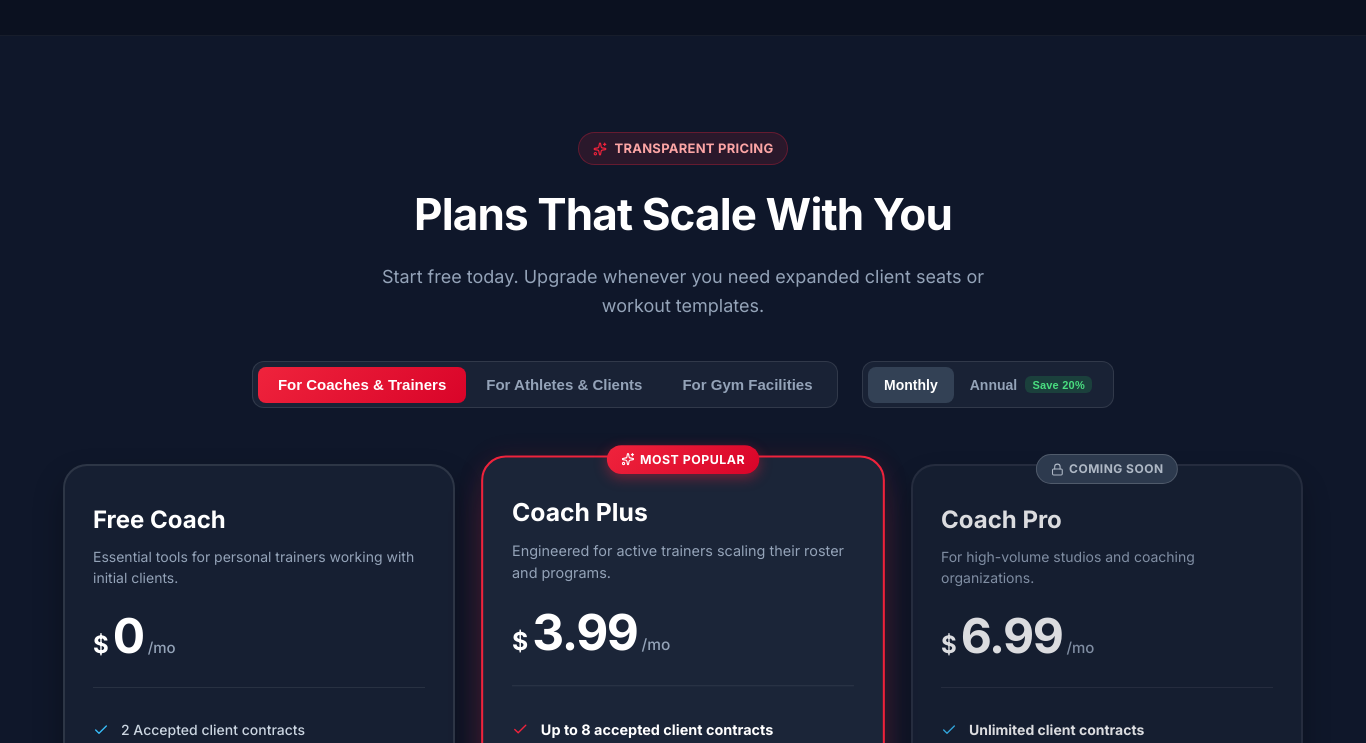
Test: LandingPage › switches billing frequency from monthly to annual and shows savings
The width and height of the screenshot is (1366, 743).
(page scrolled)
Expected: the text "3.99" is shown, [532,608,637,658]
# Click Annual
Click the button "Annual Save 20%": (1031, 385) [954,367,1108,403]
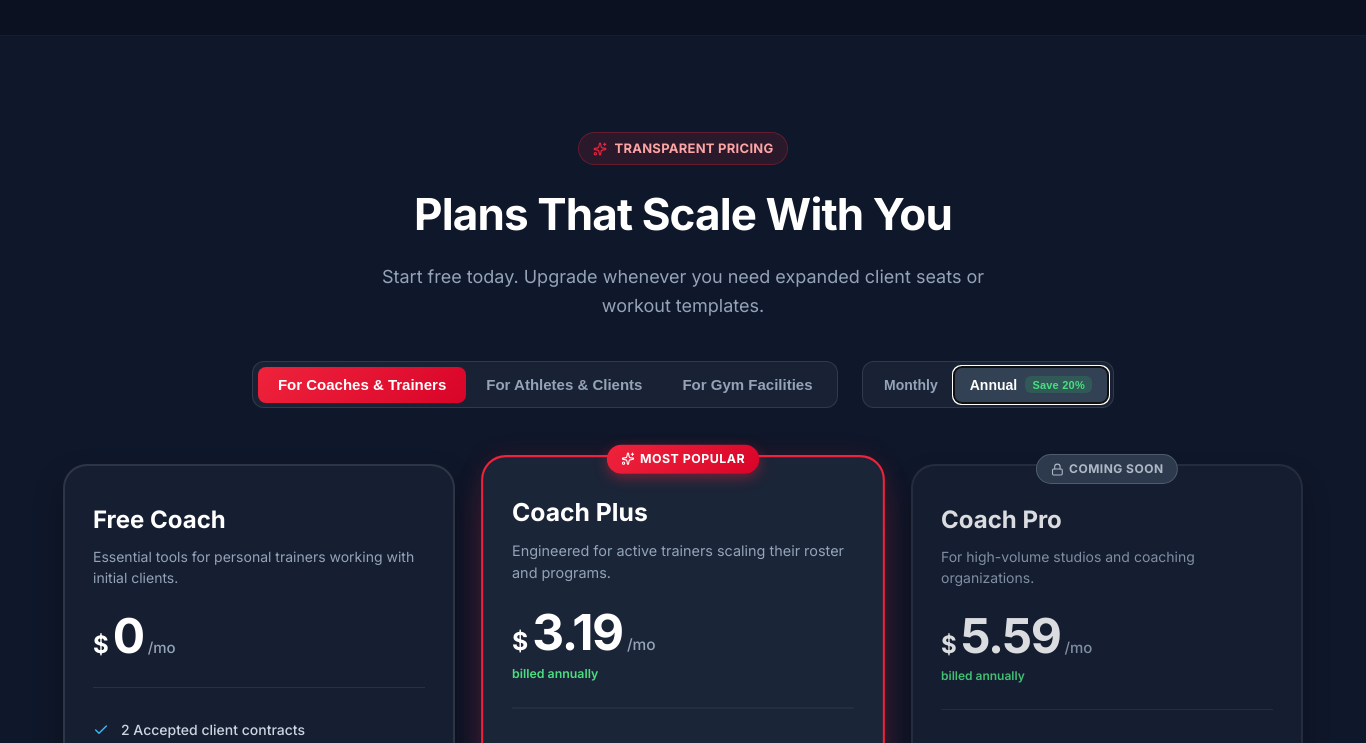
Result: the text "billed annually" below "3.19" is shown at [512,666,598,681]
Result: the text "3.19" is shown at [532,608,623,657]
# Switch to Gym tab on Annual
Click the tab "For Gym Facilities": (747, 385) [662,366,832,403]
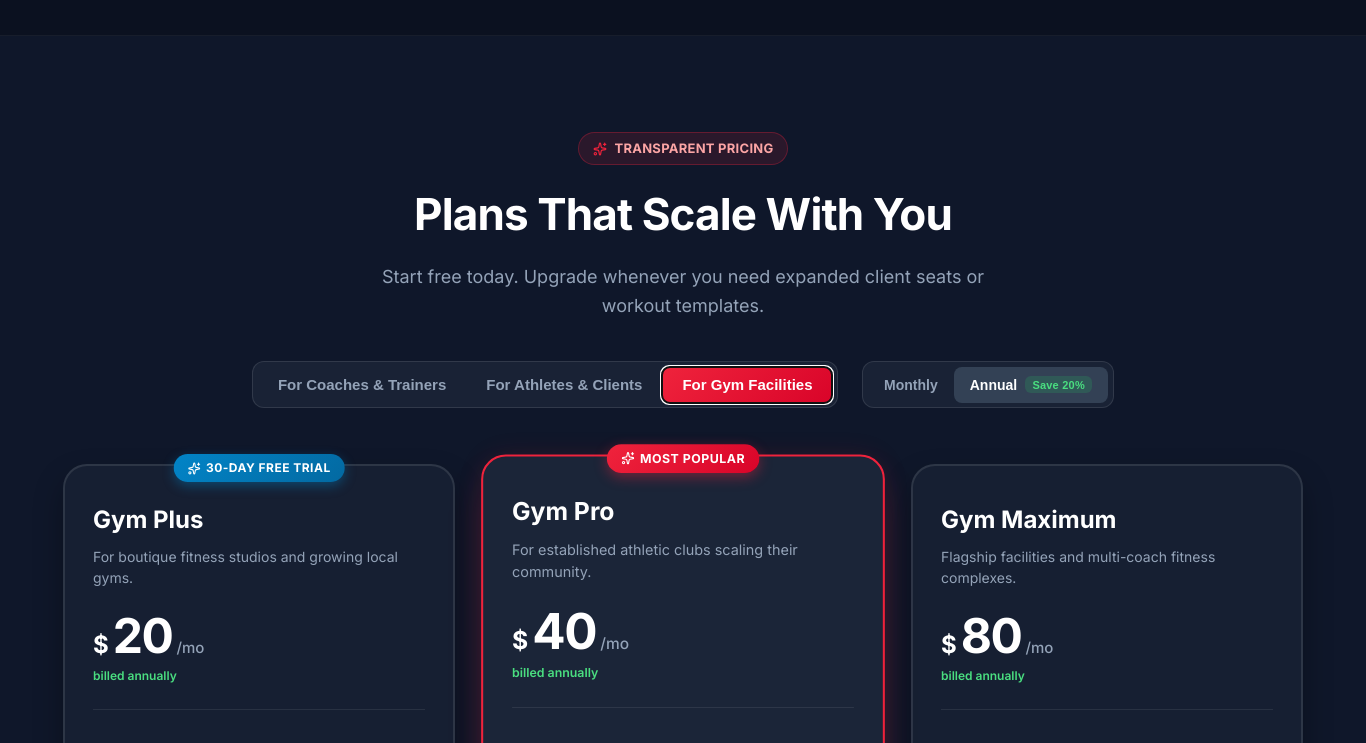
Result: the text "20" is shown at [113,612,172,660]
Result: the text "40" is shown at [532,608,596,657]
Result: the text "80" is shown at [961,612,1021,660]
